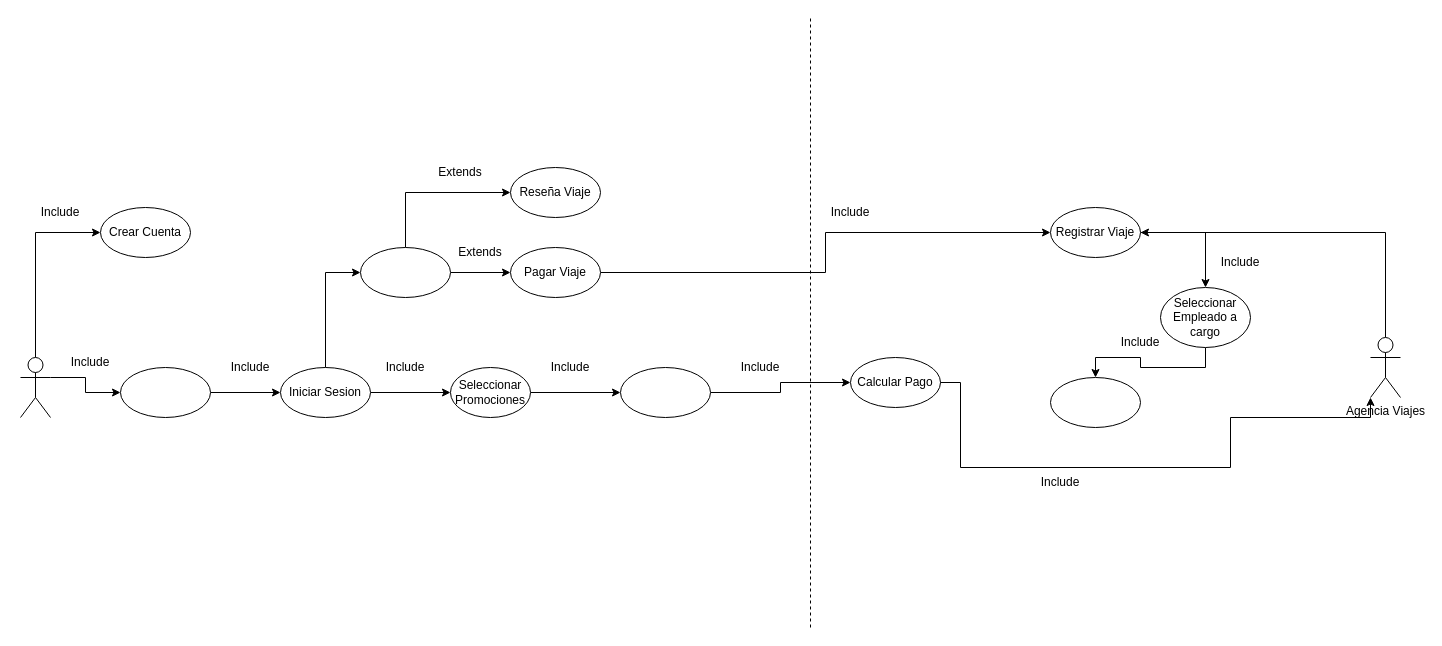
Some shapes in this 1442 by 646 pixel diagram are drawn without their labels. Here are the shapes that lost their labels. From the top down, the centre of each, then its label:
At point (405, 272): "Visualizar Viaje".
At point (35, 387): "Cliente".
At point (165, 392): "Planificar Viaje".
At point (665, 392): "Seleccionar Opciones Viaje".
At point (1095, 402): "Preparar Viaje".
